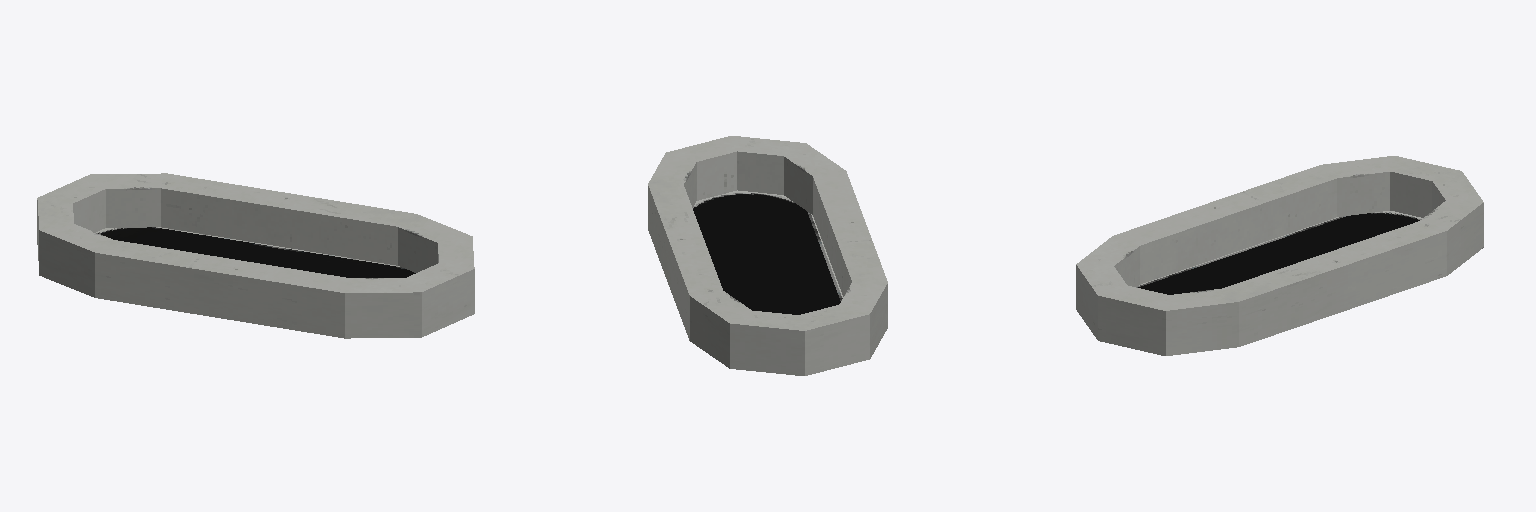
3 renders of one model, left to right at view 1: azimuth 30°, elevation 25°; view 2: azimuth 150°, elevation 25°; view 3: azimuth 270°, elevation 25°, orthographic.
Parts seen in each view (by area): view 1: holder_01_low; view 2: holder_01_low; view 3: holder_01_low.
Part boxes in pixels (left/top/right/bottom): holder_01_low: left=37, top=173, right=474, bottom=338; holder_01_low: left=648, top=136, right=887, bottom=375; holder_01_low: left=1076, top=156, right=1483, bottom=355.
Bounding box in the file's own units: 0.5795 × 0.0788 × 0.642.
1 materials, 1 textured.